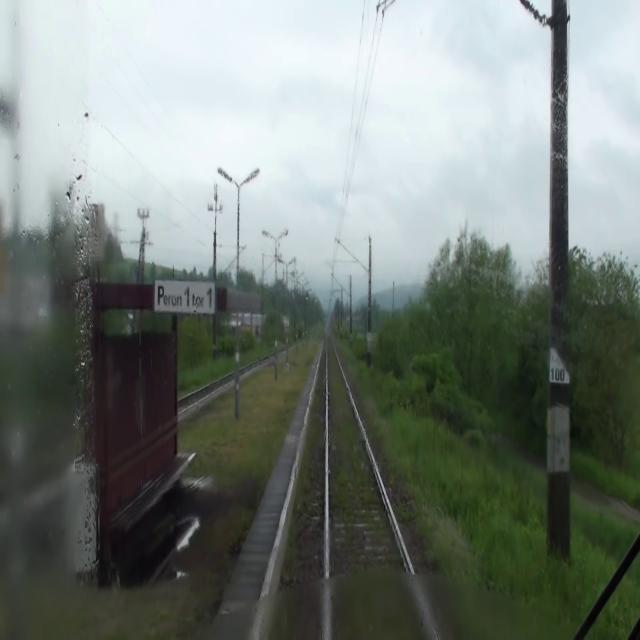rail-track: (328, 335, 434, 639), (177, 376, 234, 409)
